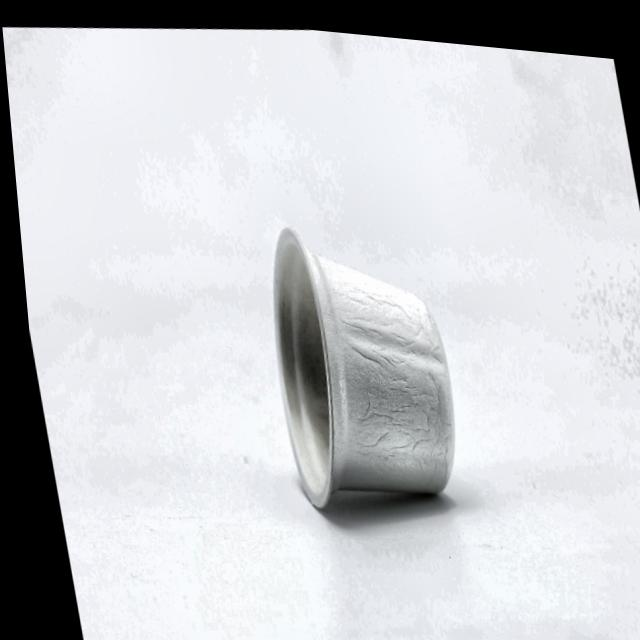Cup: (231, 195, 472, 539)
